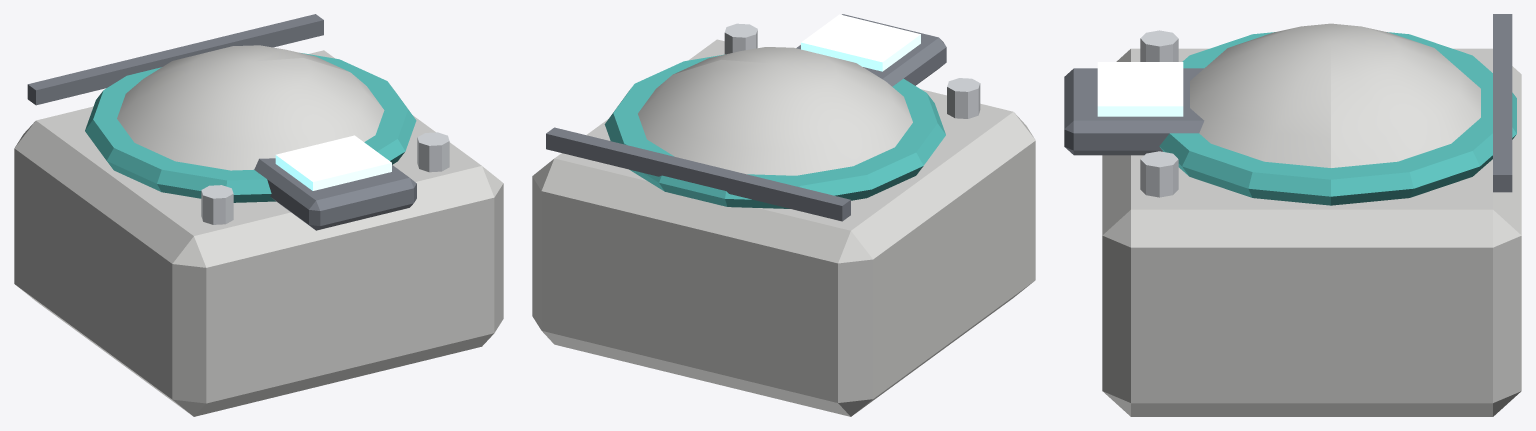
File: medical-23621.glb
3 renders of one model, left to right at view 1: azimuth 30°, elevation 25°; view 2: azimuth 150°, elevation 25°; view 3: azimuth 270°, elevation 25°, orthographic. The views are drawn at different scales.
Visible parts, largest first — view 1: centrifuge; view 2: centrifuge; view 3: centrifuge.
Part boxes in pixels (x1,y1,x2,y2): centrifuge: (14,14,503,416); centrifuge: (532,14,1035,416); centrifuge: (1064,14,1521,416).
Bounding box in the file's own units: 0.46 × 0.34 × 0.48.
